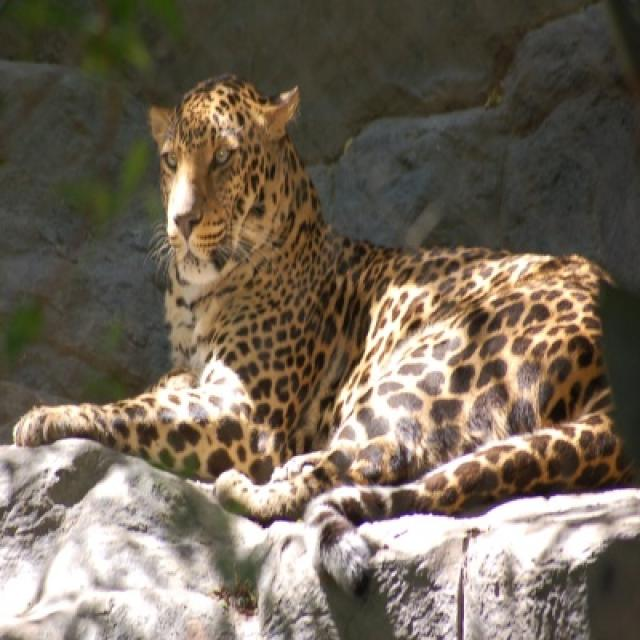not_pig: (11, 70, 635, 597)
